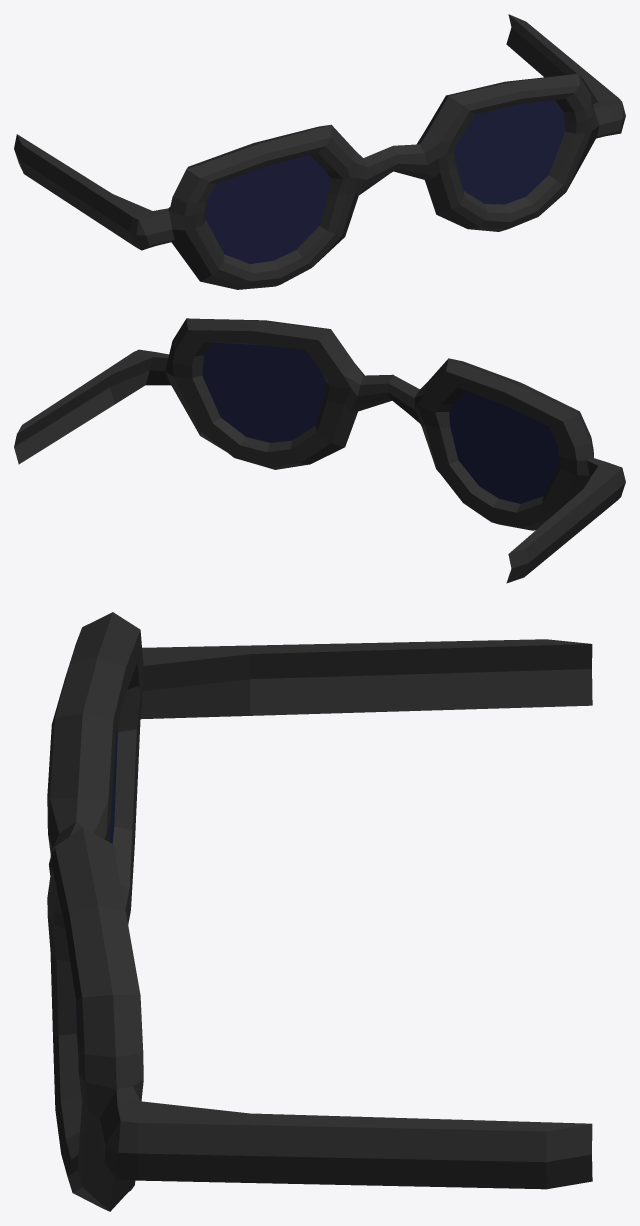
Rendered from Hat_Glasses_Cool.fbx.
3 views of the same model, one above another, from view 1: azimuth 30°, elevation 25°; view 2: azimuth 150°, elevation 25°; view 3: azimuth 270°, elevation 25° (orthographic). The views are drawn at different scales.
Parts seen in each view (by area): view 1: CoolGlasses; view 2: CoolGlasses; view 3: CoolGlasses.
Part boxes in pixels (x1=…): CoolGlasses: x1=14, y1=14, x2=625, y2=289; CoolGlasses: x1=14, y1=318, x2=625, y2=583; CoolGlasses: x1=47, y1=612, x2=592, y2=1211.
Size of the model in its own units: 103 by 29.05 by 47.5.
